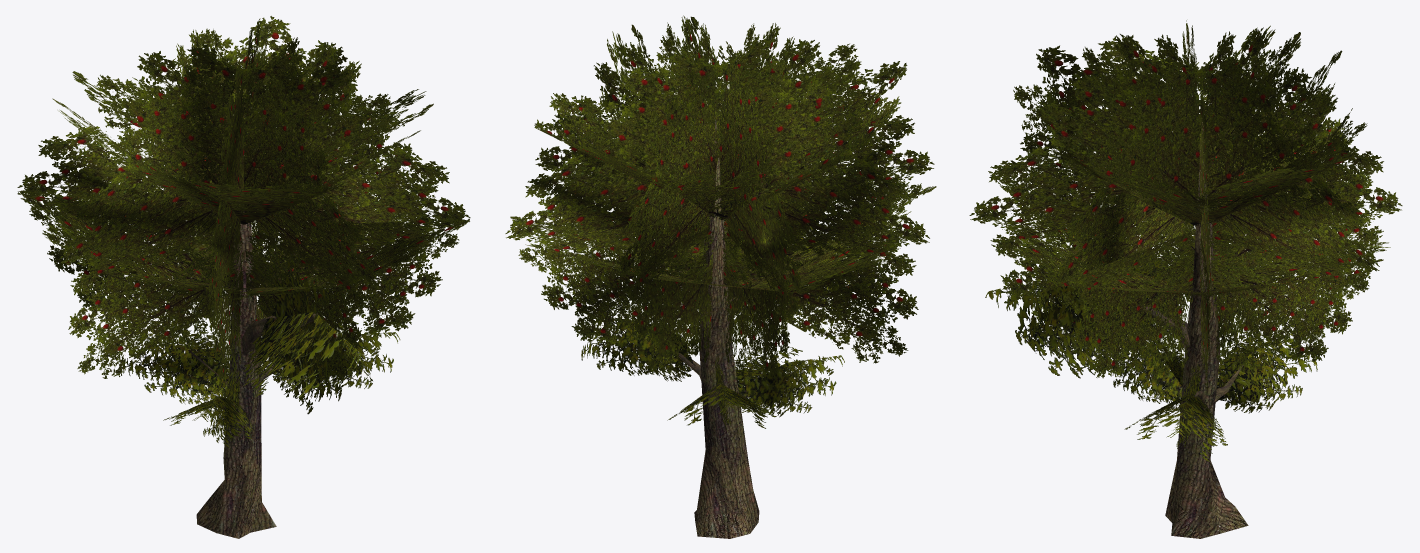
The model's file is KM_VOB_APPLETREE.glb.
The picture shows the model from 3 angles, left to right: view 1: azimuth 30°, elevation 25°; view 2: azimuth 150°, elevation 25°; view 3: azimuth 270°, elevation 25°; orthographic projection.
Visible parts, largest first — view 1: Mesh; view 2: Mesh; view 3: Mesh.
Part boxes in pixels (<box>): Mesh: <box>17,16,470,538</box>; Mesh: <box>505,15,936,538</box>; Mesh: <box>969,20,1402,538</box>.
Bounding box in the file's own units: 6.98 × 8.77 × 6.9.
3 materials, 3 textured.
